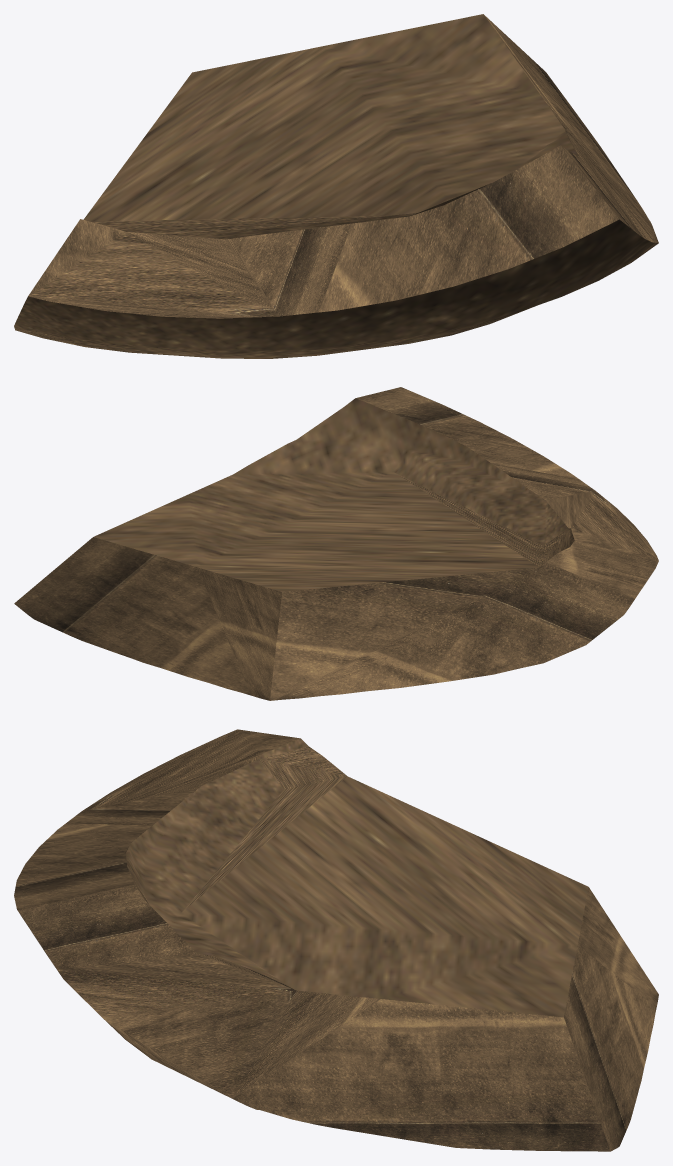
3 renders of one model, top to bottom at view 1: azimuth 30°, elevation 25°; view 2: azimuth 150°, elevation 25°; view 3: azimuth 270°, elevation 25°, orthographic. The views are drawn at different scales.
Visible parts, largest first — view 1: Cylinder_cell.003; view 2: Cylinder_cell.003; view 3: Cylinder_cell.003.
Boxes of the visible parts, box(x1,y1,x2,y2) form: Cylinder_cell.003: box(14, 14, 658, 358); Cylinder_cell.003: box(14, 387, 658, 700); Cylinder_cell.003: box(14, 729, 658, 1151).
Size of the model in its own units: 1.15 by 0.2963 by 0.9409.
1 material, 1 textured.
